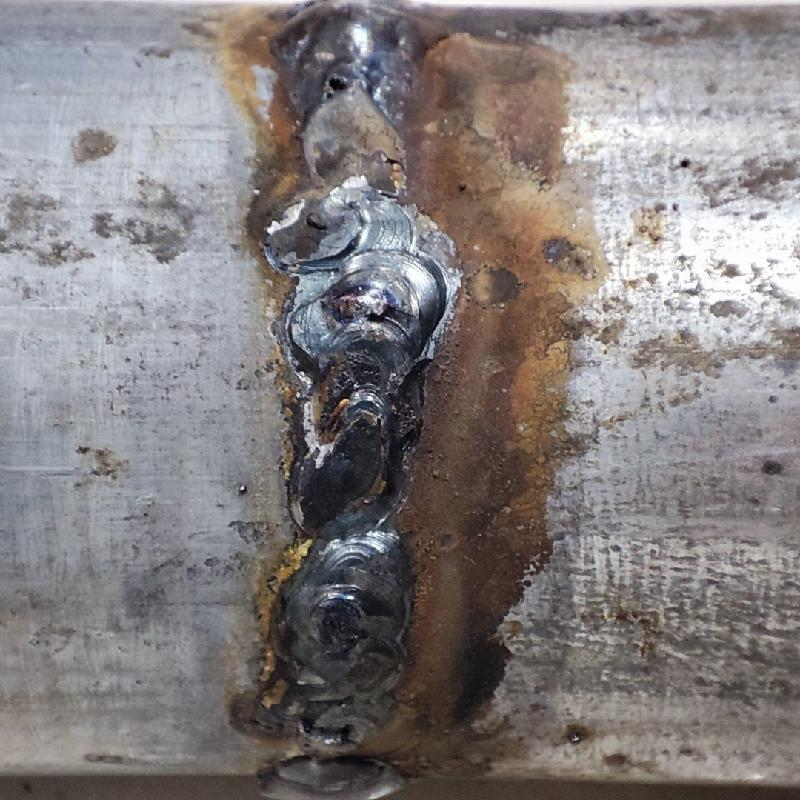Not_fully_soldered: (276, 76, 428, 264), (261, 680, 418, 767)
Surface_pores: (312, 57, 368, 119)
Weld: (259, 0, 426, 101)
wrong_size: (274, 259, 443, 679)
